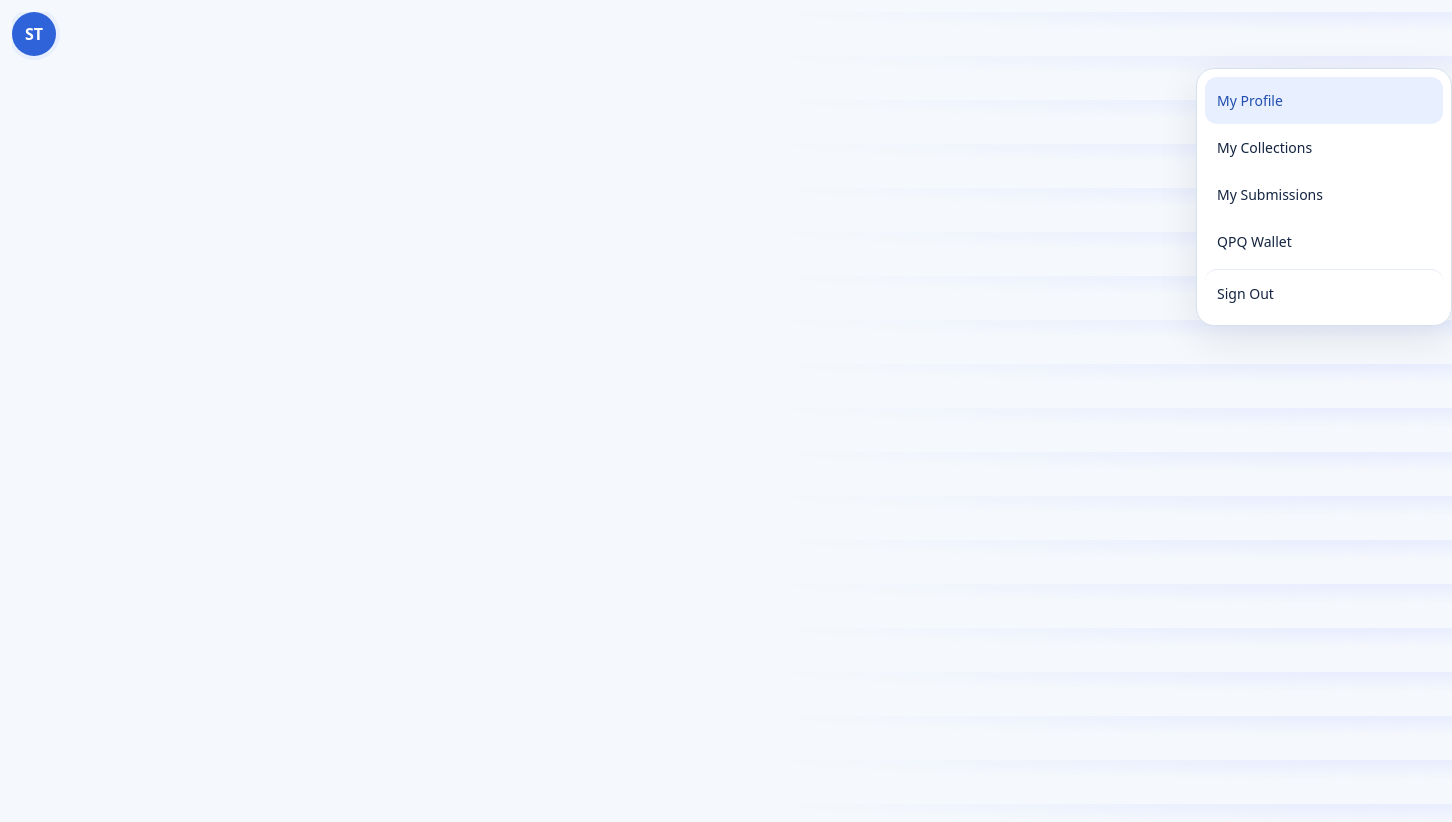
Test case: clears the avatar immediately after logout without waiting for server navigation
The width and height of the screenshot is (1452, 822).
Click the button "Sign Out" at coordinates (1324, 293), box x1=1205 y1=269 x2=1443 y2=318
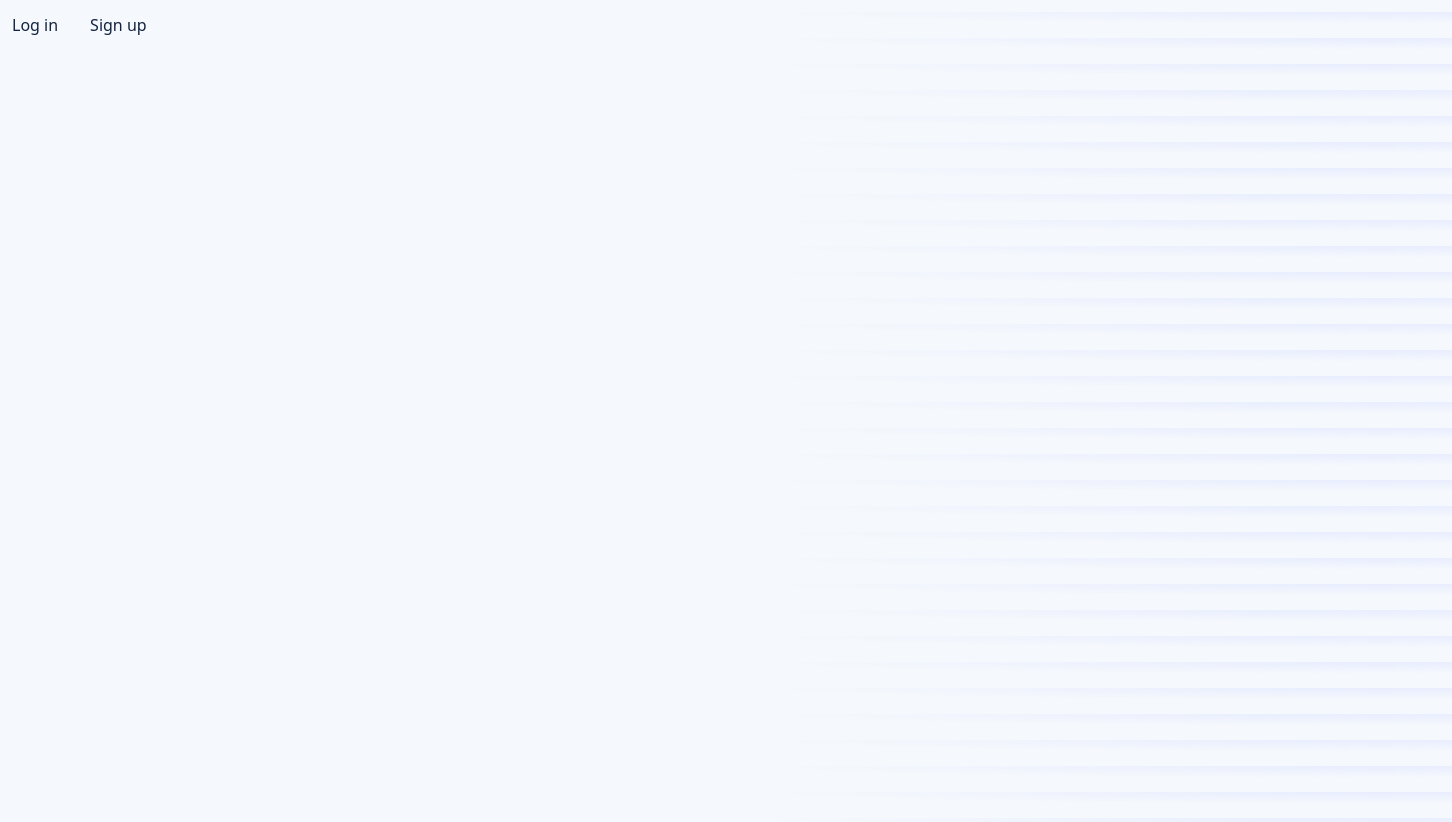
expect the link "Log in" is shown: met, box x1=12 y1=12 x2=58 y2=38
